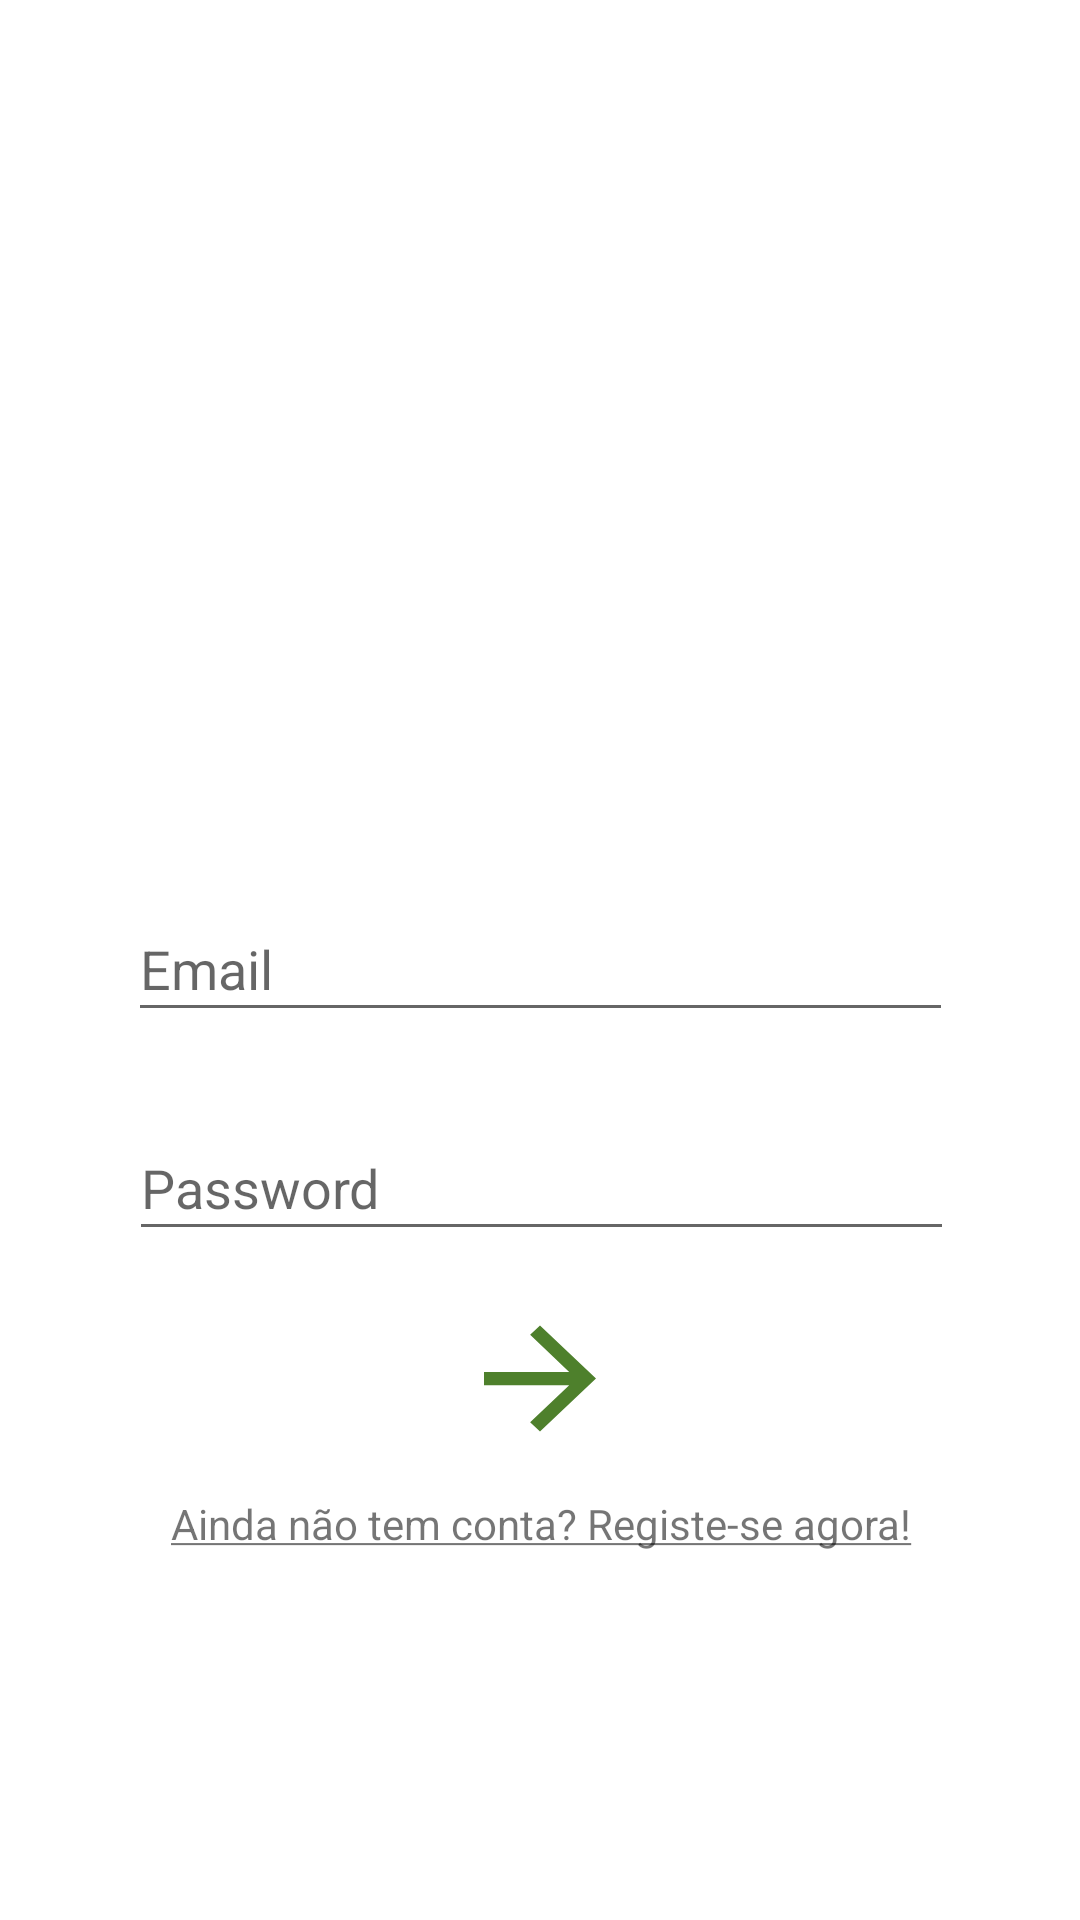

Where icons sit on this 1080 x 1920 app screen, as (x1, y1, x2, y2):
arrow forward: (484, 1325, 596, 1432)
